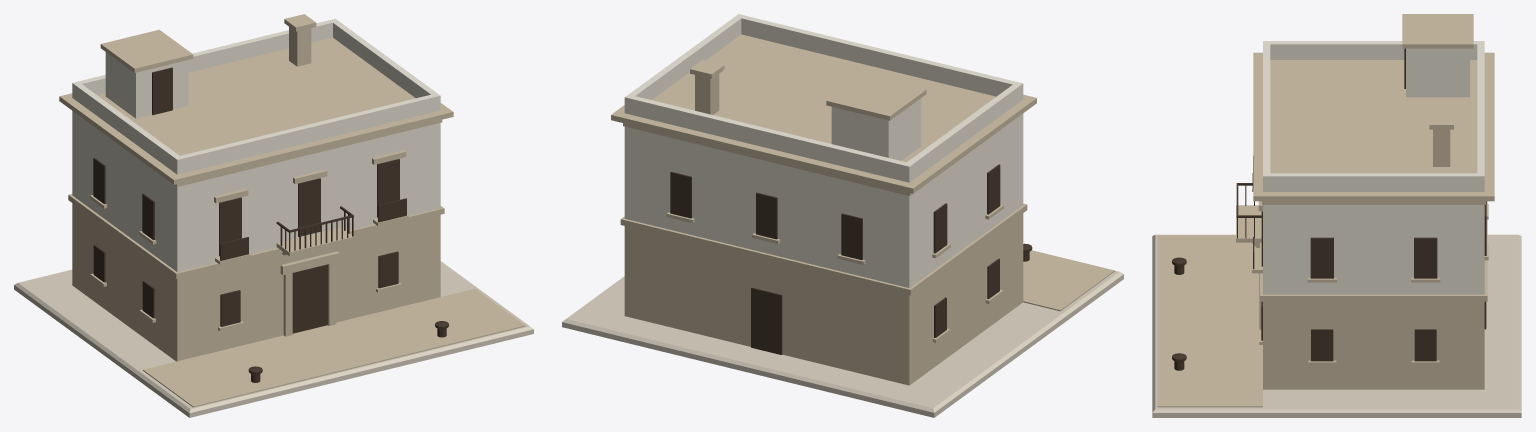
The model's file is modello.glb.
3 renders of one model, left to right at view 1: azimuth 30°, elevation 25°; view 2: azimuth 150°, elevation 25°; view 3: azimuth 270°, elevation 25°, orthographic. The views are drawn at different scales.
Parts seen in each view (by area): view 1: Palazzetto sul Porto; view 2: Palazzetto sul Porto; view 3: Palazzetto sul Porto.
Boxes of the visible parts, x1,y1,x2,y2 form: Palazzetto sul Porto: [14, 14, 533, 417]; Palazzetto sul Porto: [562, 14, 1123, 417]; Palazzetto sul Porto: [1152, 14, 1521, 417].
Bounding box in the file's own units: 0.38 × 0.2602 × 0.3353.
